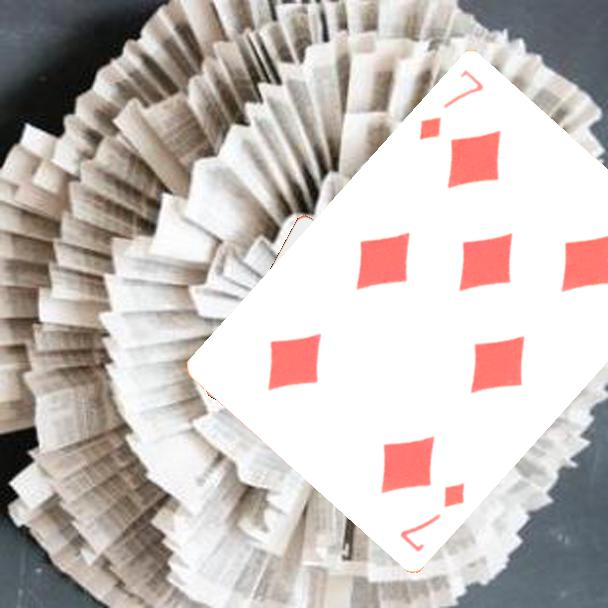d07: (415, 65, 487, 143), (396, 478, 468, 555)
